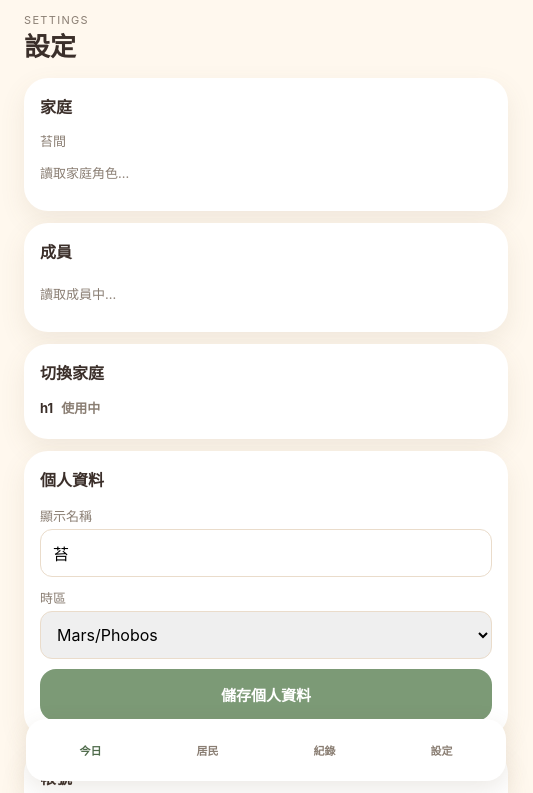
Scenario: SettingsPage profile › shows a Chinese error for an invalid timezone
The image size is (533, 793).
Expected: the dropdown named "個人時區" shows "Mars/Phobos", [40,611,492,659]
Click the button "儲存個人資料" at (266, 695), box [40,669,492,721]
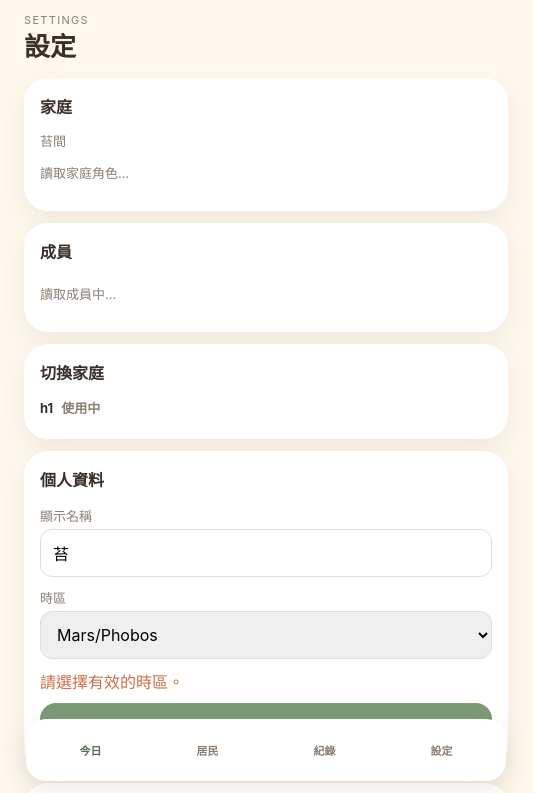
Result: the text "請選擇有效的時區。" is shown at [40,672,184,692]
